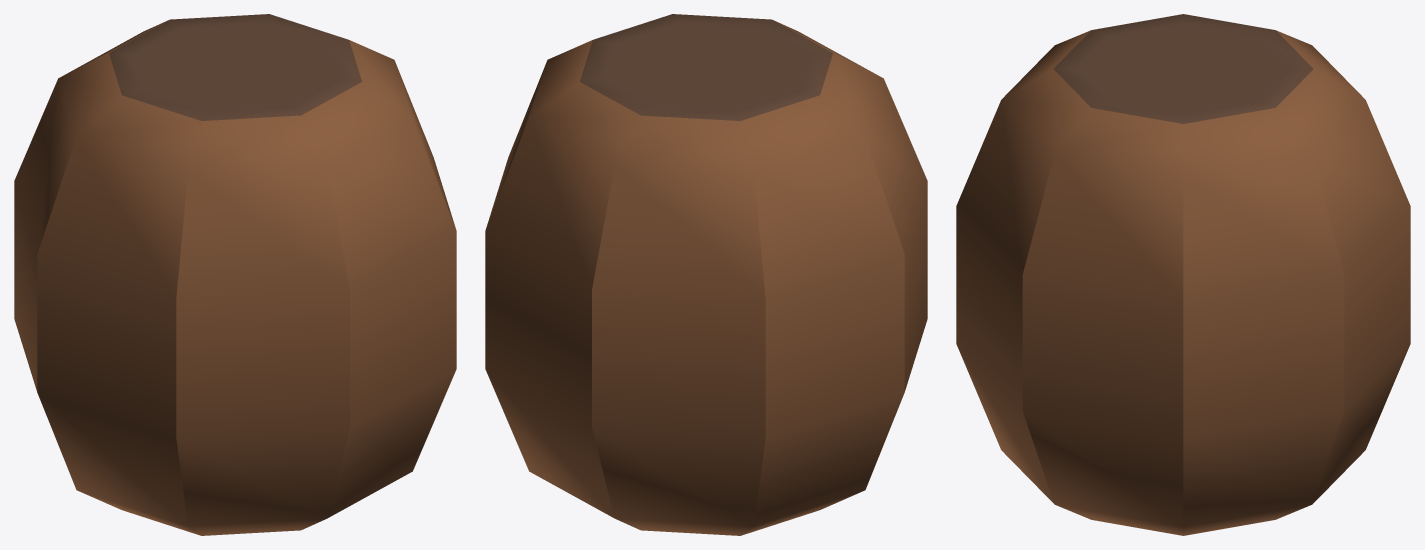
File: Barrel-3.fbx
3 views of the same model, side by side, from view 1: azimuth 30°, elevation 25°; view 2: azimuth 150°, elevation 25°; view 3: azimuth 270°, elevation 25° (orthographic).
Parts seen in each view (by area): view 1: Cylinder.224; view 2: Cylinder.224; view 3: Cylinder.224.
Boxes of the visible parts, box(x1,y1,x2,y2) form: Cylinder.224: box(14, 14, 456, 535); Cylinder.224: box(485, 14, 927, 535); Cylinder.224: box(956, 14, 1410, 535).
Size of the model in its own units: 21.8 by 21.8 by 21.8.
